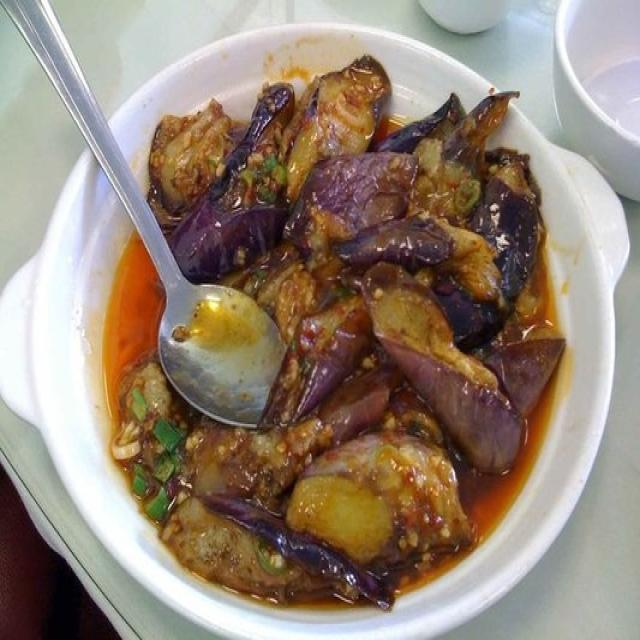鸡蛋料理: (71, 29, 569, 602)
